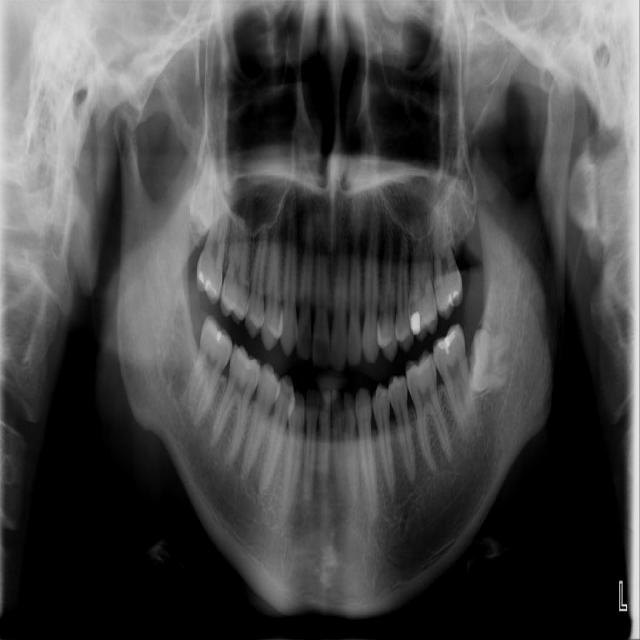Filling: (198, 271, 221, 305), (437, 326, 460, 354), (410, 310, 431, 335), (445, 289, 460, 311), (213, 328, 227, 343)
impacted tooth: (465, 325, 525, 397), (189, 151, 215, 233)
